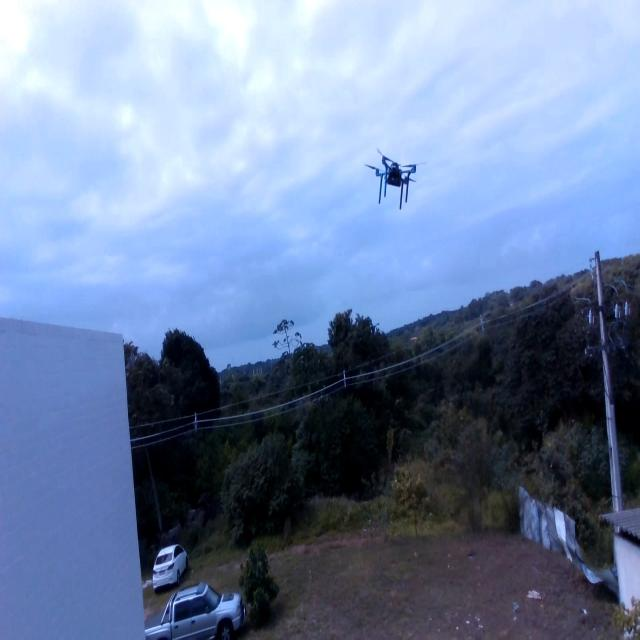-uav-: (358, 135, 424, 228)
